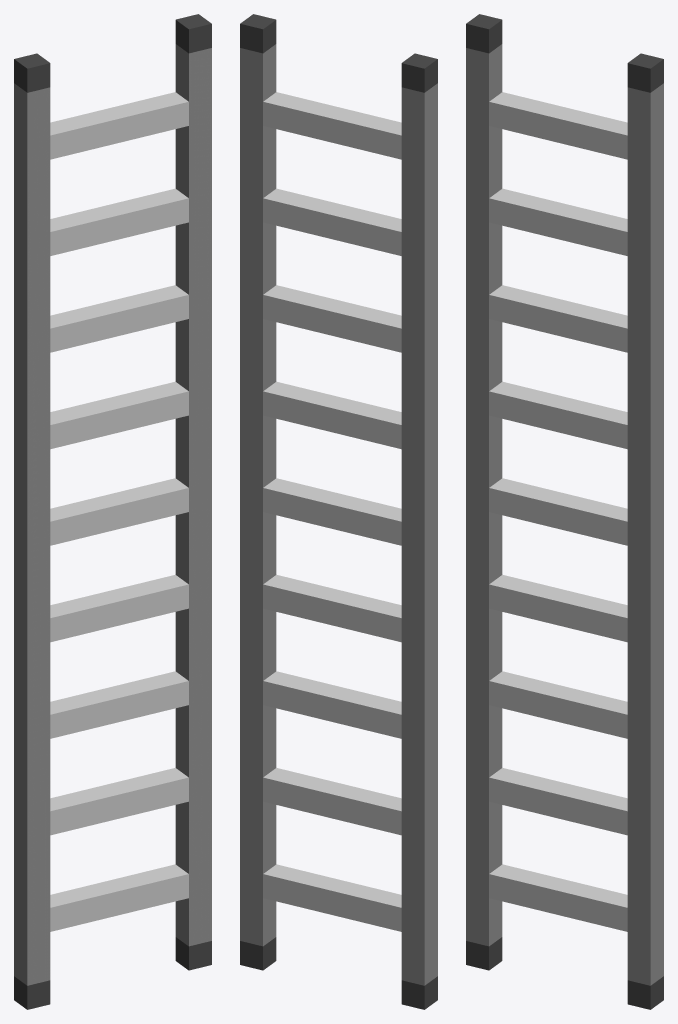
The model's file is ladder.obj.
3 renders of one model, left to right at view 1: azimuth 30°, elevation 25°; view 2: azimuth 150°, elevation 25°; view 3: azimuth 330°, elevation 25°, orthographic.
Size of the model in its own units: 0.8 by 3.9 by 0.1.
Materials: 1 (1 with a texture image).
